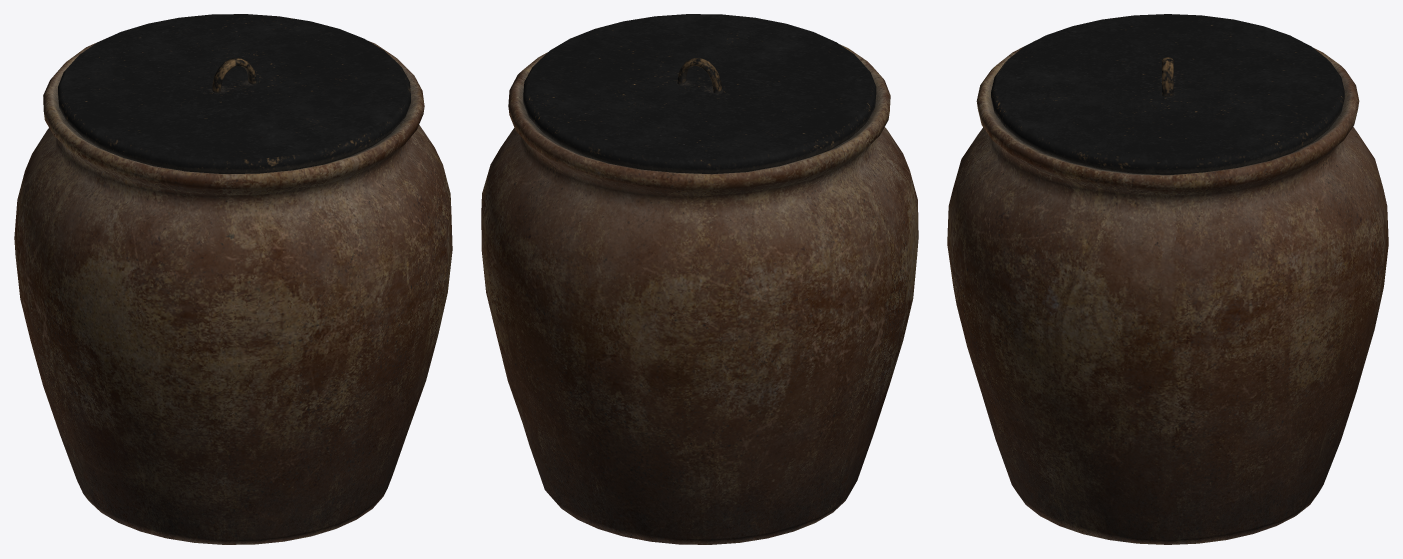
File: jar_01.glb
3 renders of one model, left to right at view 1: azimuth 30°, elevation 25°; view 2: azimuth 150°, elevation 25°; view 3: azimuth 270°, elevation 25°, orthographic.
Parts seen in each view (by area): view 1: OPM0042; view 2: OPM0042; view 3: OPM0042.
Part boxes in pixels (bbox=[...]): OPM0042: bbox=[14, 14, 452, 544]; OPM0042: bbox=[481, 14, 918, 544]; OPM0042: bbox=[947, 14, 1388, 544].
Size of the model in its own units: 0.1992 by 0.2109 by 0.2006.
1 material, 1 textured.
